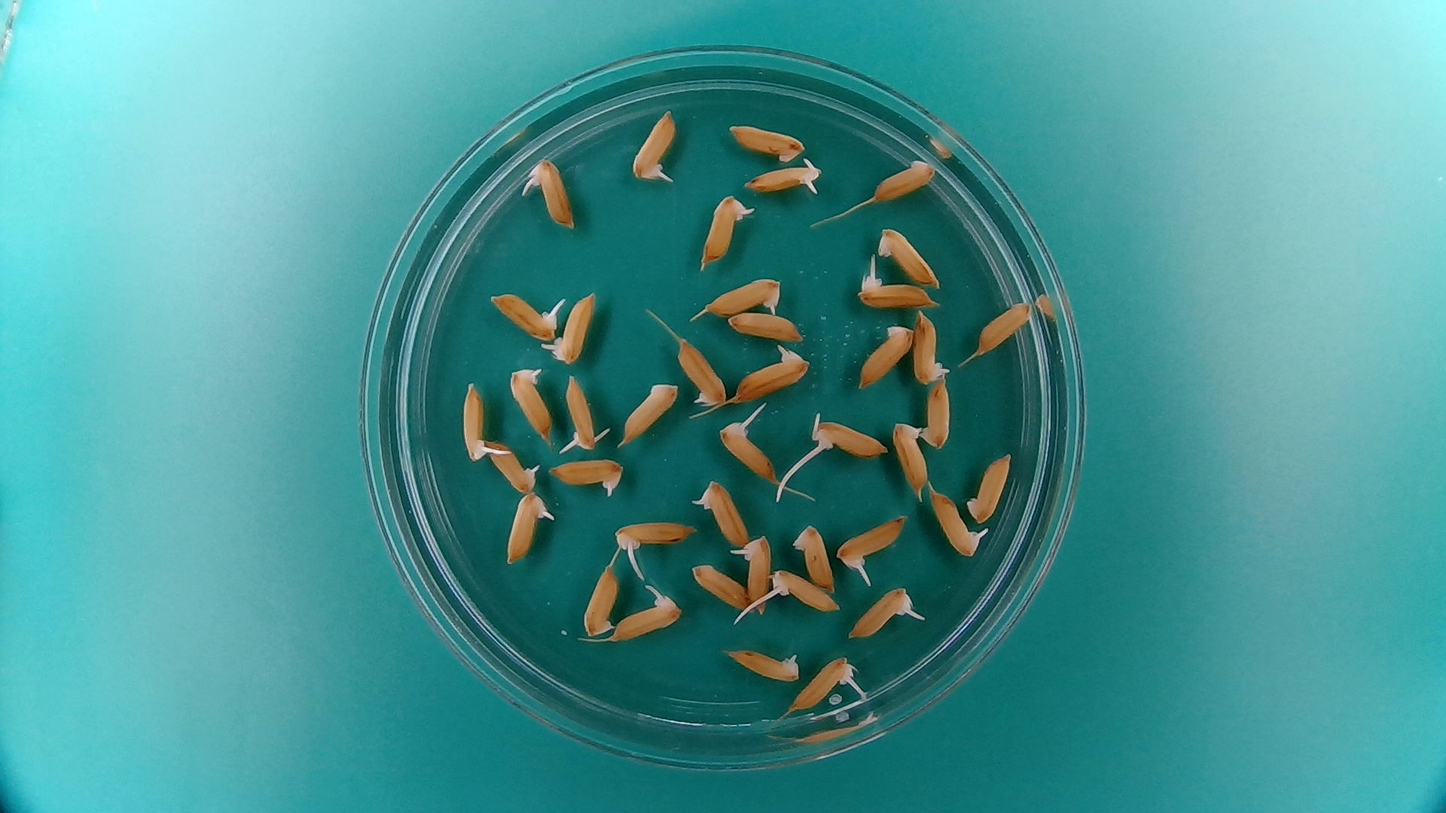no: (874, 224, 944, 289), (855, 321, 916, 392), (618, 381, 679, 445), (975, 297, 1035, 360), (725, 119, 809, 163), (966, 448, 1012, 524), (889, 416, 930, 497), (792, 519, 837, 592), (870, 155, 938, 202), (688, 559, 749, 611), (583, 559, 617, 638), (725, 311, 806, 343), (922, 376, 953, 452)
yes: (729, 349, 810, 403), (673, 333, 729, 408), (926, 488, 982, 562), (700, 271, 785, 318), (630, 107, 681, 184), (837, 513, 908, 568), (508, 363, 555, 445), (548, 289, 596, 367), (505, 493, 557, 565), (719, 421, 779, 483), (697, 480, 749, 550), (525, 158, 577, 226), (489, 291, 561, 340), (698, 195, 749, 263), (813, 414, 889, 457), (850, 586, 914, 637), (792, 659, 851, 712), (772, 568, 841, 613), (911, 308, 950, 387), (613, 520, 700, 555), (740, 159, 822, 196), (609, 598, 676, 642), (548, 457, 626, 493), (487, 443, 541, 494), (566, 372, 600, 452), (724, 644, 797, 681), (737, 531, 773, 603), (460, 379, 489, 461), (853, 279, 932, 308)
